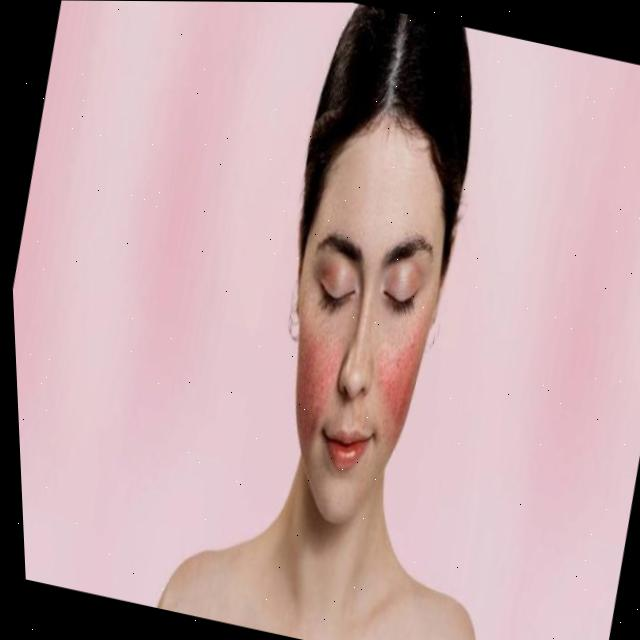Rosacea: (349, 299, 442, 456), (274, 318, 353, 446)
